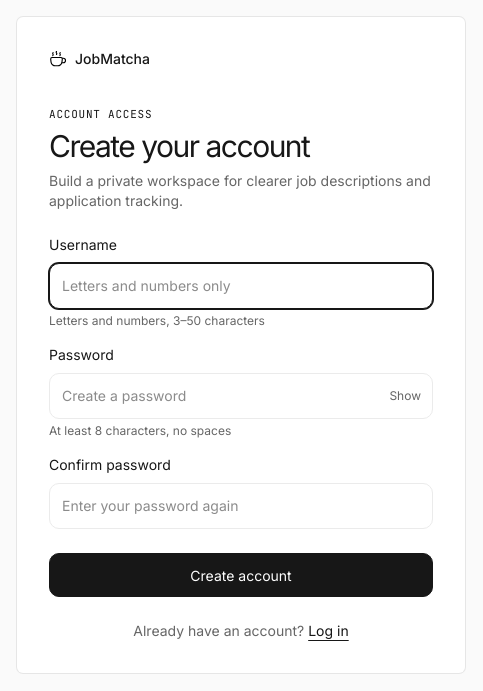
Test: authentication screens › shows confirmation after successful signup
Step 1. Type "newuser" into the field labelled "Username Letters and numbers, 3–50 characters" → (241, 286), box [49, 263, 433, 309]
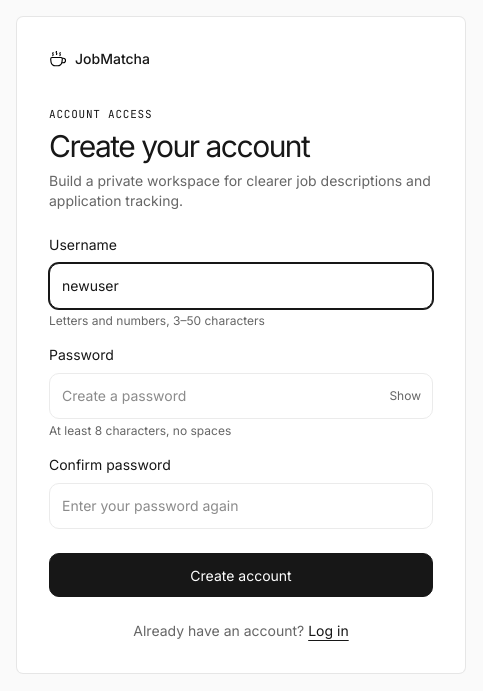
Step 2. Type "Symbols!123" into the password field labelled "Password Show At least 8 characters, no spaces" → (241, 396), box [49, 373, 433, 419]
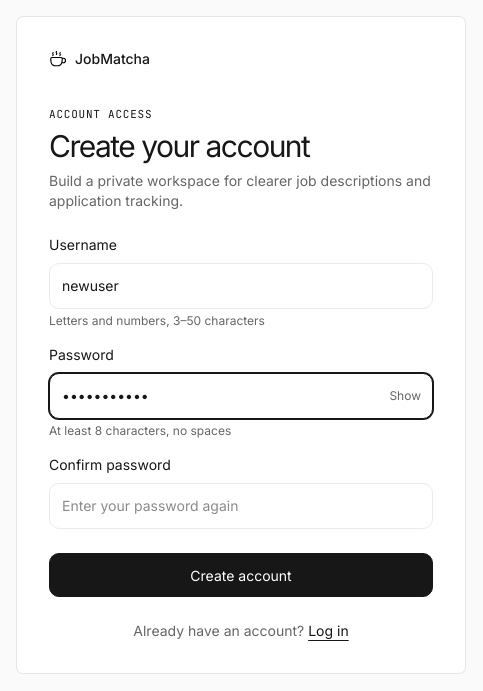
Step 3. Type "Symbols!123" into the password field labelled "Confirm password" → (241, 506), box [49, 483, 433, 529]
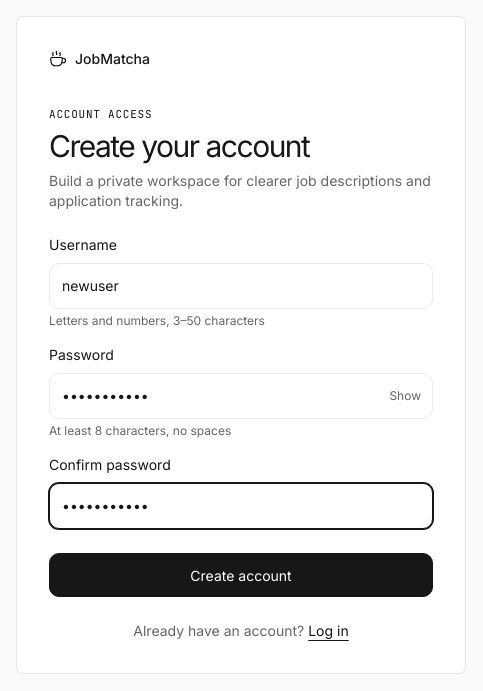
Step 4. Click the button "Create account" → (241, 575), box [49, 553, 433, 597]
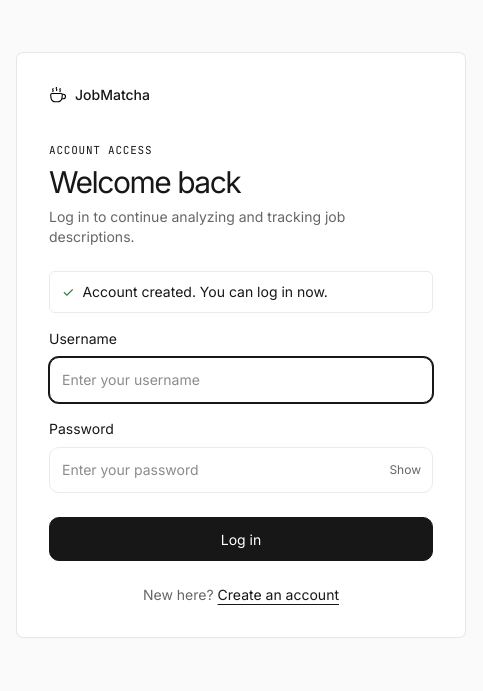
Check: the text "Account created. You can log in now." is shown, box [82, 283, 328, 300]
